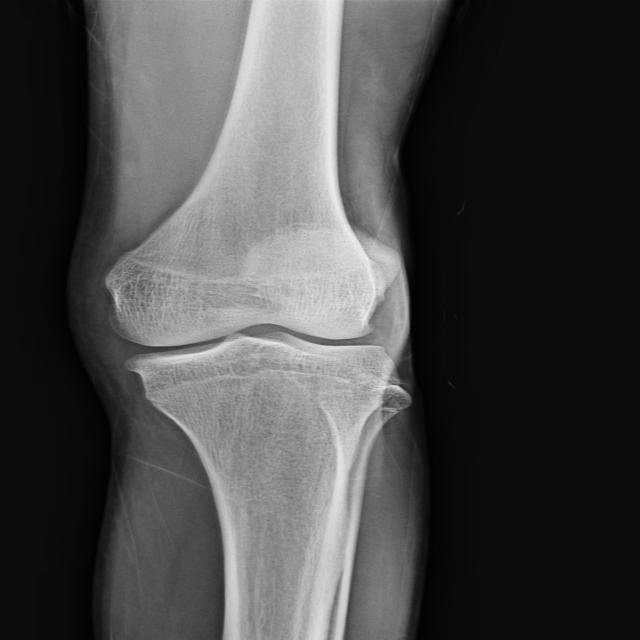osteo: (105, 241, 397, 391)
